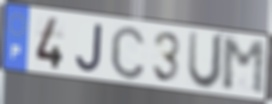3: (152, 31, 182, 83)
4: (34, 15, 65, 70)
C: (109, 24, 147, 82)
J: (74, 22, 105, 75)
M: (221, 37, 267, 97)
U: (186, 29, 226, 92)
